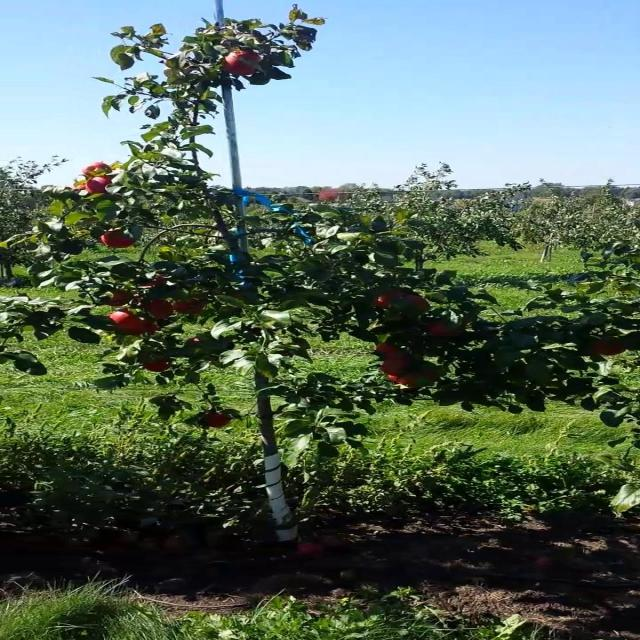apple: (389, 362, 440, 389), (222, 49, 262, 76), (109, 309, 149, 334), (391, 294, 429, 314), (100, 229, 136, 248), (427, 319, 462, 336), (373, 289, 404, 308), (144, 299, 173, 319), (591, 339, 627, 354), (173, 299, 204, 315), (202, 411, 231, 428), (84, 176, 111, 194), (104, 290, 133, 306), (316, 188, 349, 202), (82, 161, 111, 176), (142, 358, 171, 372), (140, 274, 167, 288), (184, 336, 209, 349), (376, 342, 398, 355), (69, 180, 87, 191)
